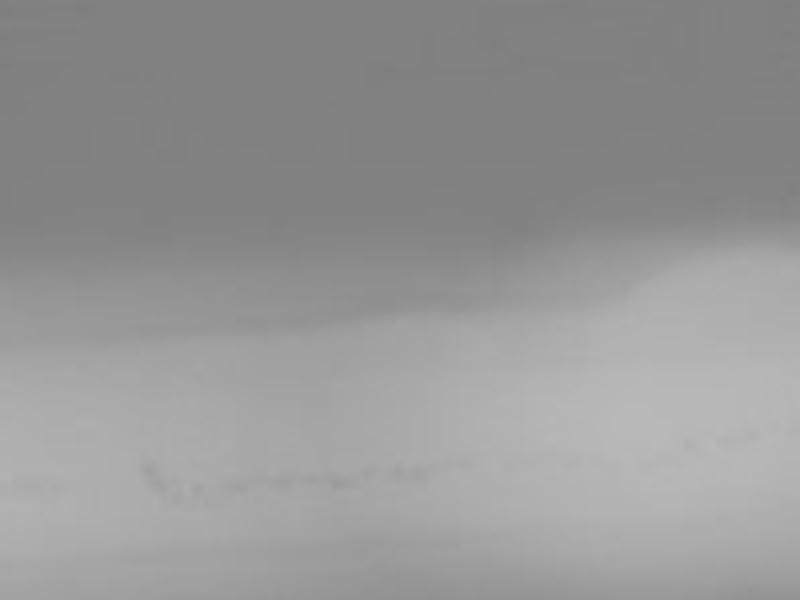defect: (14, 473, 59, 492), (735, 420, 761, 448), (263, 473, 299, 493), (449, 451, 481, 473), (678, 439, 714, 456), (327, 472, 357, 491), (139, 475, 170, 493), (413, 465, 439, 484), (223, 475, 251, 492), (387, 462, 408, 480), (188, 483, 210, 500), (140, 459, 158, 477), (360, 464, 378, 480), (166, 492, 185, 506)
